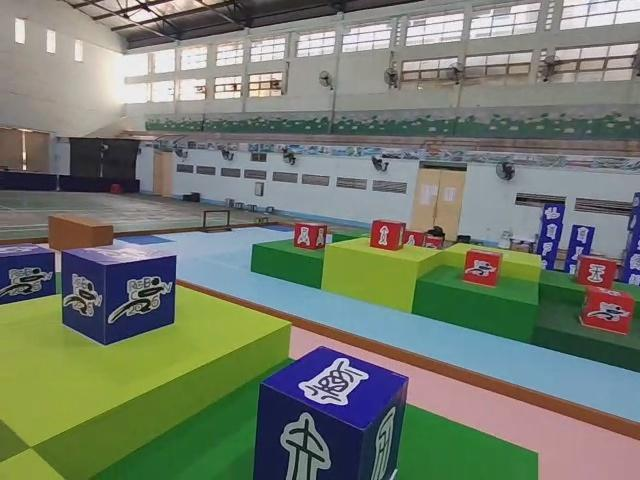R1 Blue: (61, 245, 179, 346), (0, 244, 56, 308)
R2 Fake Blue: (255, 348, 409, 480)
